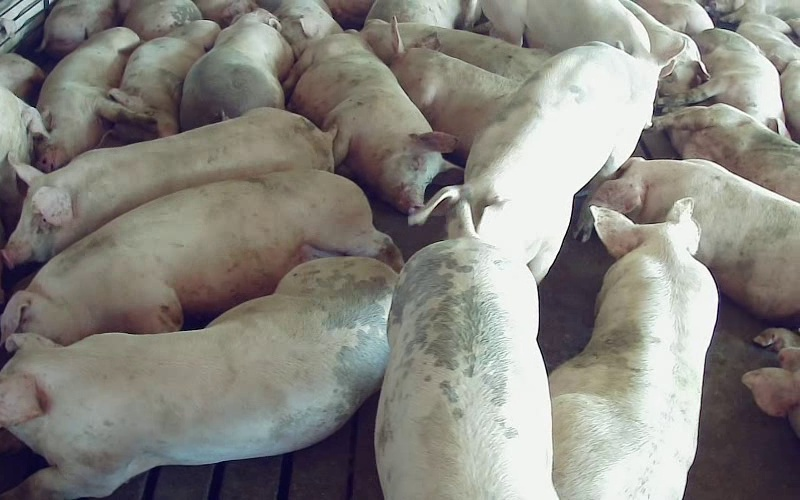pig: (0, 258, 395, 499), (0, 170, 402, 344), (375, 200, 555, 499), (3, 107, 332, 267), (549, 198, 717, 499), (590, 158, 799, 320), (284, 33, 460, 212), (101, 20, 220, 145), (653, 103, 799, 201), (180, 8, 293, 130), (663, 29, 788, 135), (481, 0, 649, 56), (621, 0, 708, 95)
